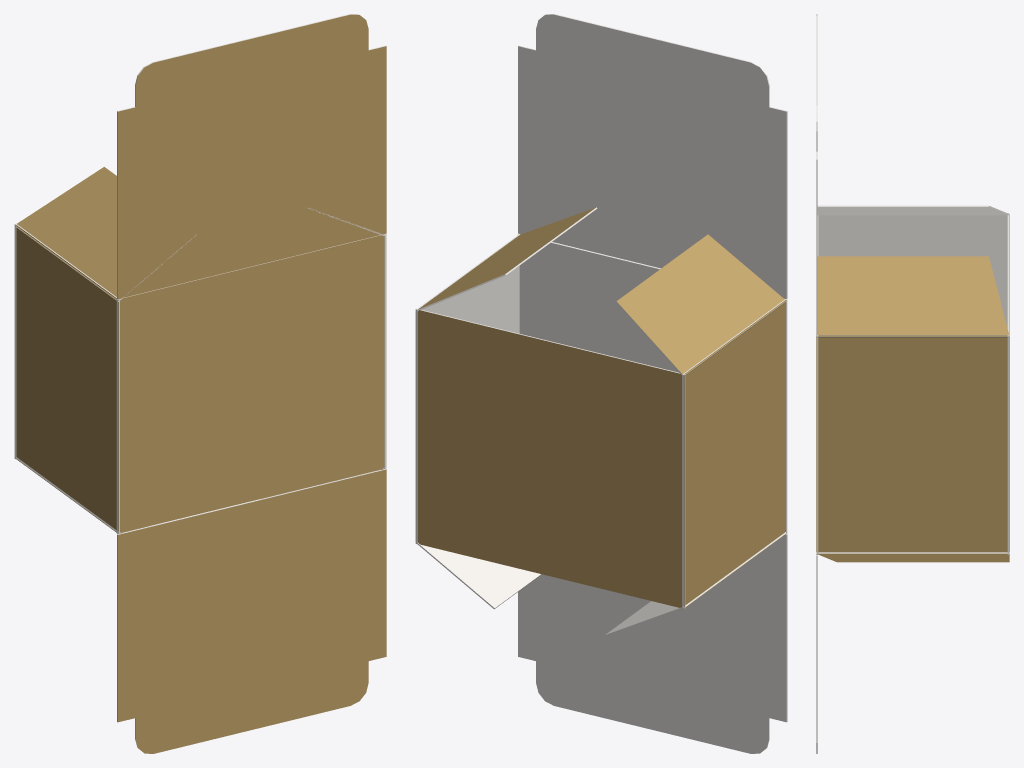
3 renders of one model, left to right at view 1: azimuth 30°, elevation 25°; view 2: azimuth 150°, elevation 25°; view 3: azimuth 270°, elevation 25°, orthographic. The views are drawn at different scales.
Parts seen in each view (by area): view 1: Packive_Box_fefco0210; view 2: Packive_Box_fefco0210; view 3: Packive_Box_fefco0210.
Part boxes in pixels (x1,y1,x2,y2): Packive_Box_fefco0210: (14, 14, 386, 753); Packive_Box_fefco0210: (415, 14, 787, 753); Packive_Box_fefco0210: (816, 14, 1009, 753).
Size of the model in its own units: 0.3 by 0.7375 by 0.2.
24 materials, 12 textured.
